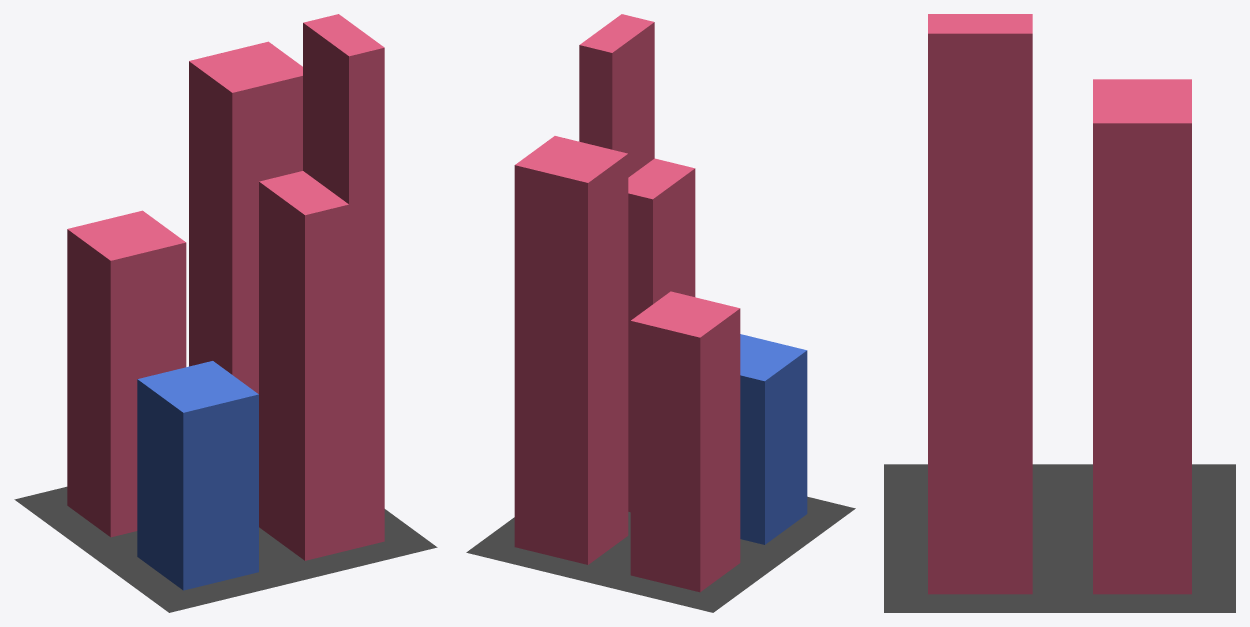
The model's file is native_baseline.glb.
3 renders of one model, left to right at view 1: azimuth 30°, elevation 25°; view 2: azimuth 150°, elevation 25°; view 3: azimuth 270°, elevation 25°, orthographic. The views are drawn at different scales.
Size of the model in its own units: 64 by 113 by 64.
